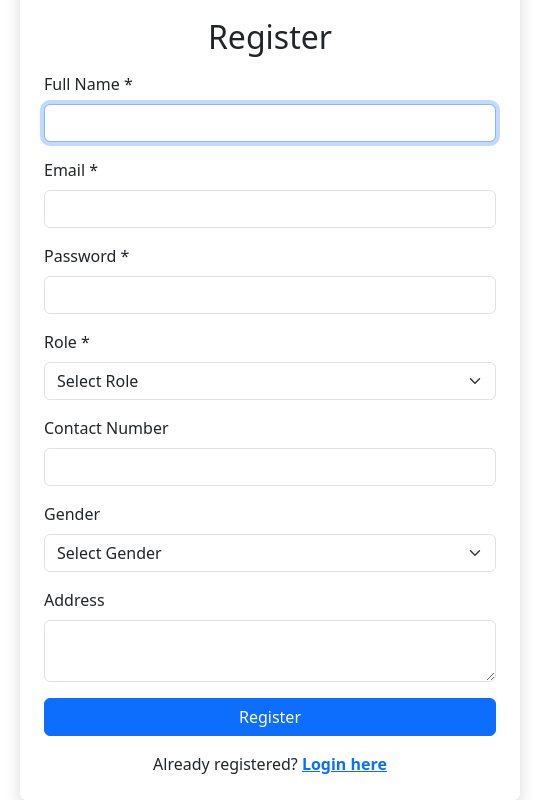
Test: Register Component › shows error if name is empty
(page scrolled)
Click the button "Register": click(270, 717) x1=44 y1=698 x2=496 y2=736
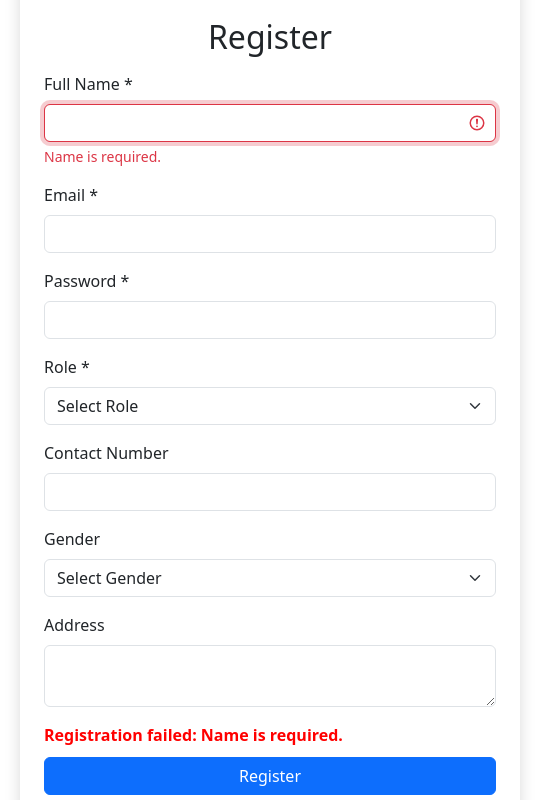
Expected: the text "Name is required." is shown, x1=44 y1=147 x2=161 y2=166
Expected: the text "Registration failed: Name is required." is shown, x1=44 y1=724 x2=343 y2=746
